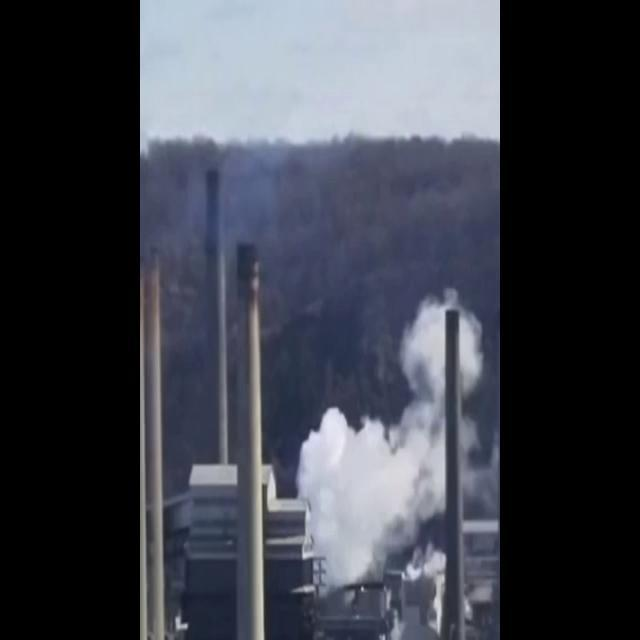Smoke: (296, 291, 446, 585)
